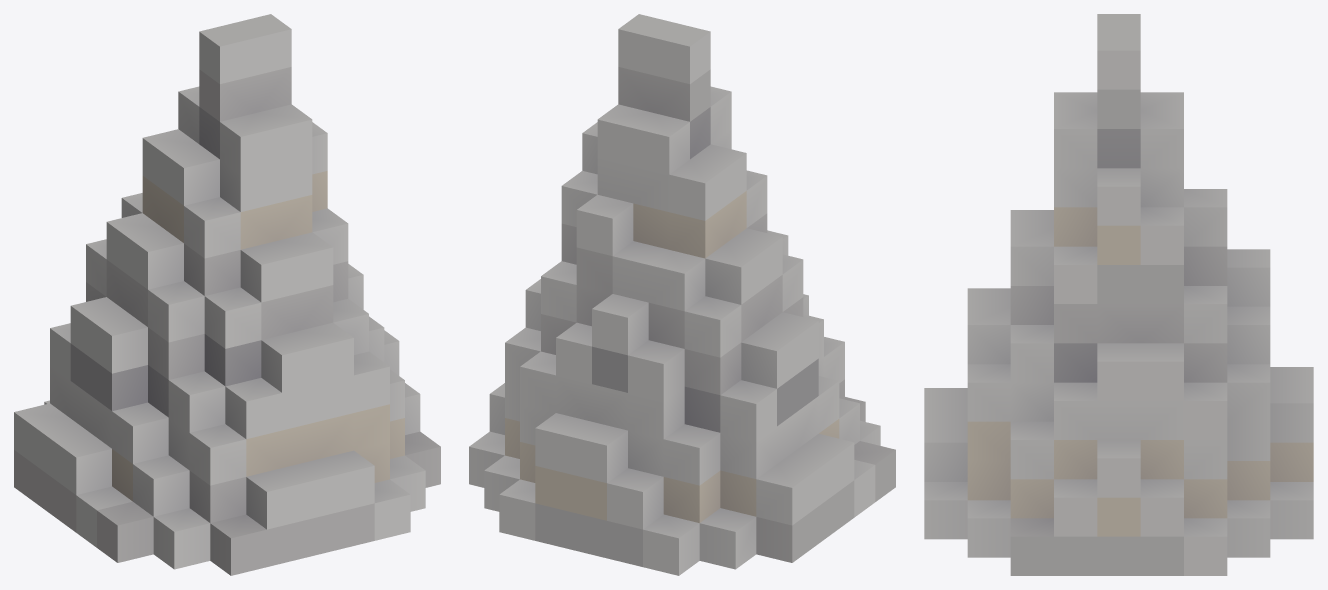
The model's file is decor_peak_a.glb.
The picture shows the model from 3 angles, left to right: view 1: azimuth 30°, elevation 25°; view 2: azimuth 150°, elevation 25°; view 3: azimuth 270°, elevation 25°; orthographic projection. The views are drawn at different scales.
Visible parts, largest first — view 1: decor_peak_a; view 2: decor_peak_a; view 3: decor_peak_a.
Boxes of the visible parts, x1,y1,x2,y2 form: decor_peak_a: (14, 14, 440, 575); decor_peak_a: (469, 14, 895, 575); decor_peak_a: (924, 14, 1313, 575).
Bounding box in the file's own units: 1.12 × 1.5 × 1.12.
